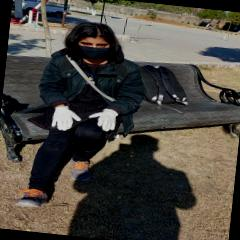gloved: (50, 104, 80, 132), (86, 106, 118, 132)
